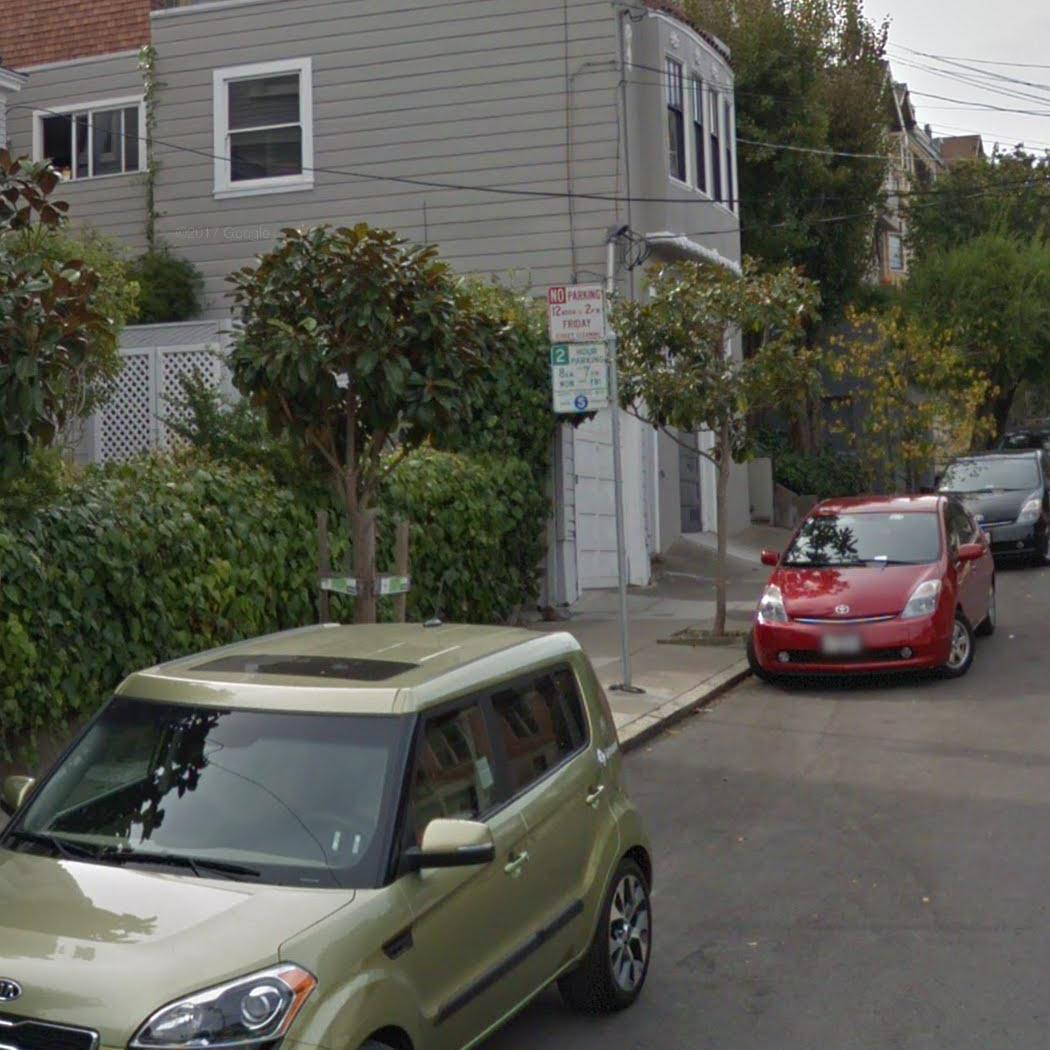2 Hour Parking: (548, 338, 614, 415)
No Parking: (544, 278, 611, 343)
